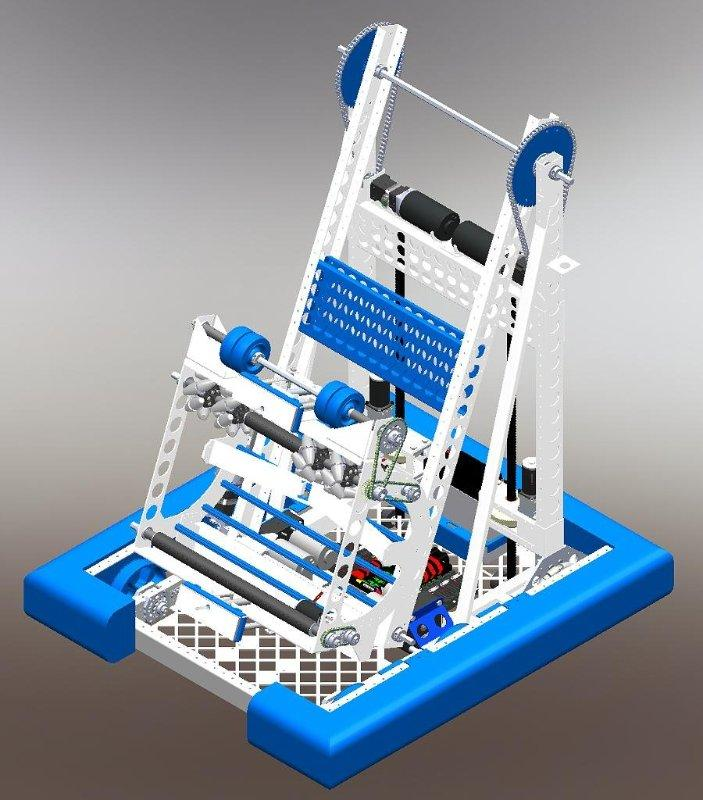robot: (21, 16, 681, 789)
